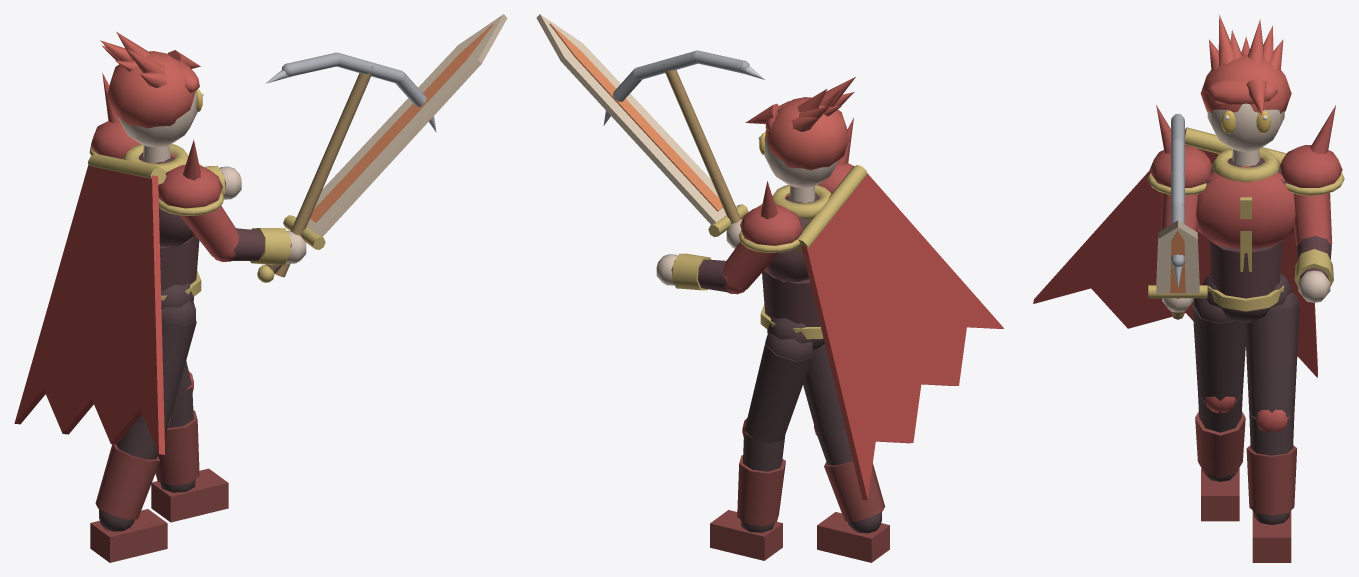
The model's file is hero_6_dragon_knight.glb.
3 renders of one model, left to right at view 1: azimuth 30°, elevation 25°; view 2: azimuth 150°, elevation 25°; view 3: azimuth 270°, elevation 25°, orthographic. The views are drawn at different scales.
Parts seen in each view (by area): view 1: Cape, LegR, Torso, Weapon, Head, LegL, Pickaxe, ArmR, ArmL; view 2: Cape, LegL, Torso, LegR, Weapon, Head, Pickaxe, ArmL; view 3: Torso, Cape, LegL, LegR, Head, ArmL, Weapon, Pickaxe, ArmR.
Boxes of the visible parts, x1,y1,x2,y2 form: Cape: (14, 154, 166, 454); LegR: (90, 301, 196, 562); Torso: (89, 73, 223, 309); Weapon: (257, 14, 507, 282); Head: (100, 32, 203, 147); LegL: (151, 361, 228, 522); Pickaxe: (265, 52, 436, 277); ArmR: (180, 206, 306, 265); ArmL: (204, 165, 241, 199); Cape: (796, 165, 1003, 500); LegL: (710, 333, 814, 560); Torso: (739, 117, 853, 350); LegR: (803, 344, 889, 562); Weapon: (536, 14, 748, 237); Head: (745, 77, 855, 187); Pickaxe: (603, 50, 764, 223); ArmL: (656, 242, 779, 294); Torso: (1147, 105, 1344, 322); Cape: (1033, 127, 1317, 377); LegL: (1245, 292, 1299, 562); LegR: (1192, 298, 1245, 521); Head: (1200, 15, 1291, 151); ArmL: (1293, 193, 1333, 302); Weapon: (1148, 220, 1207, 298); Pickaxe: (1171, 114, 1184, 319); ArmR: (1160, 193, 1198, 312).
Size of the model in its own units: 2.41 by 2.74 by 1.57.
